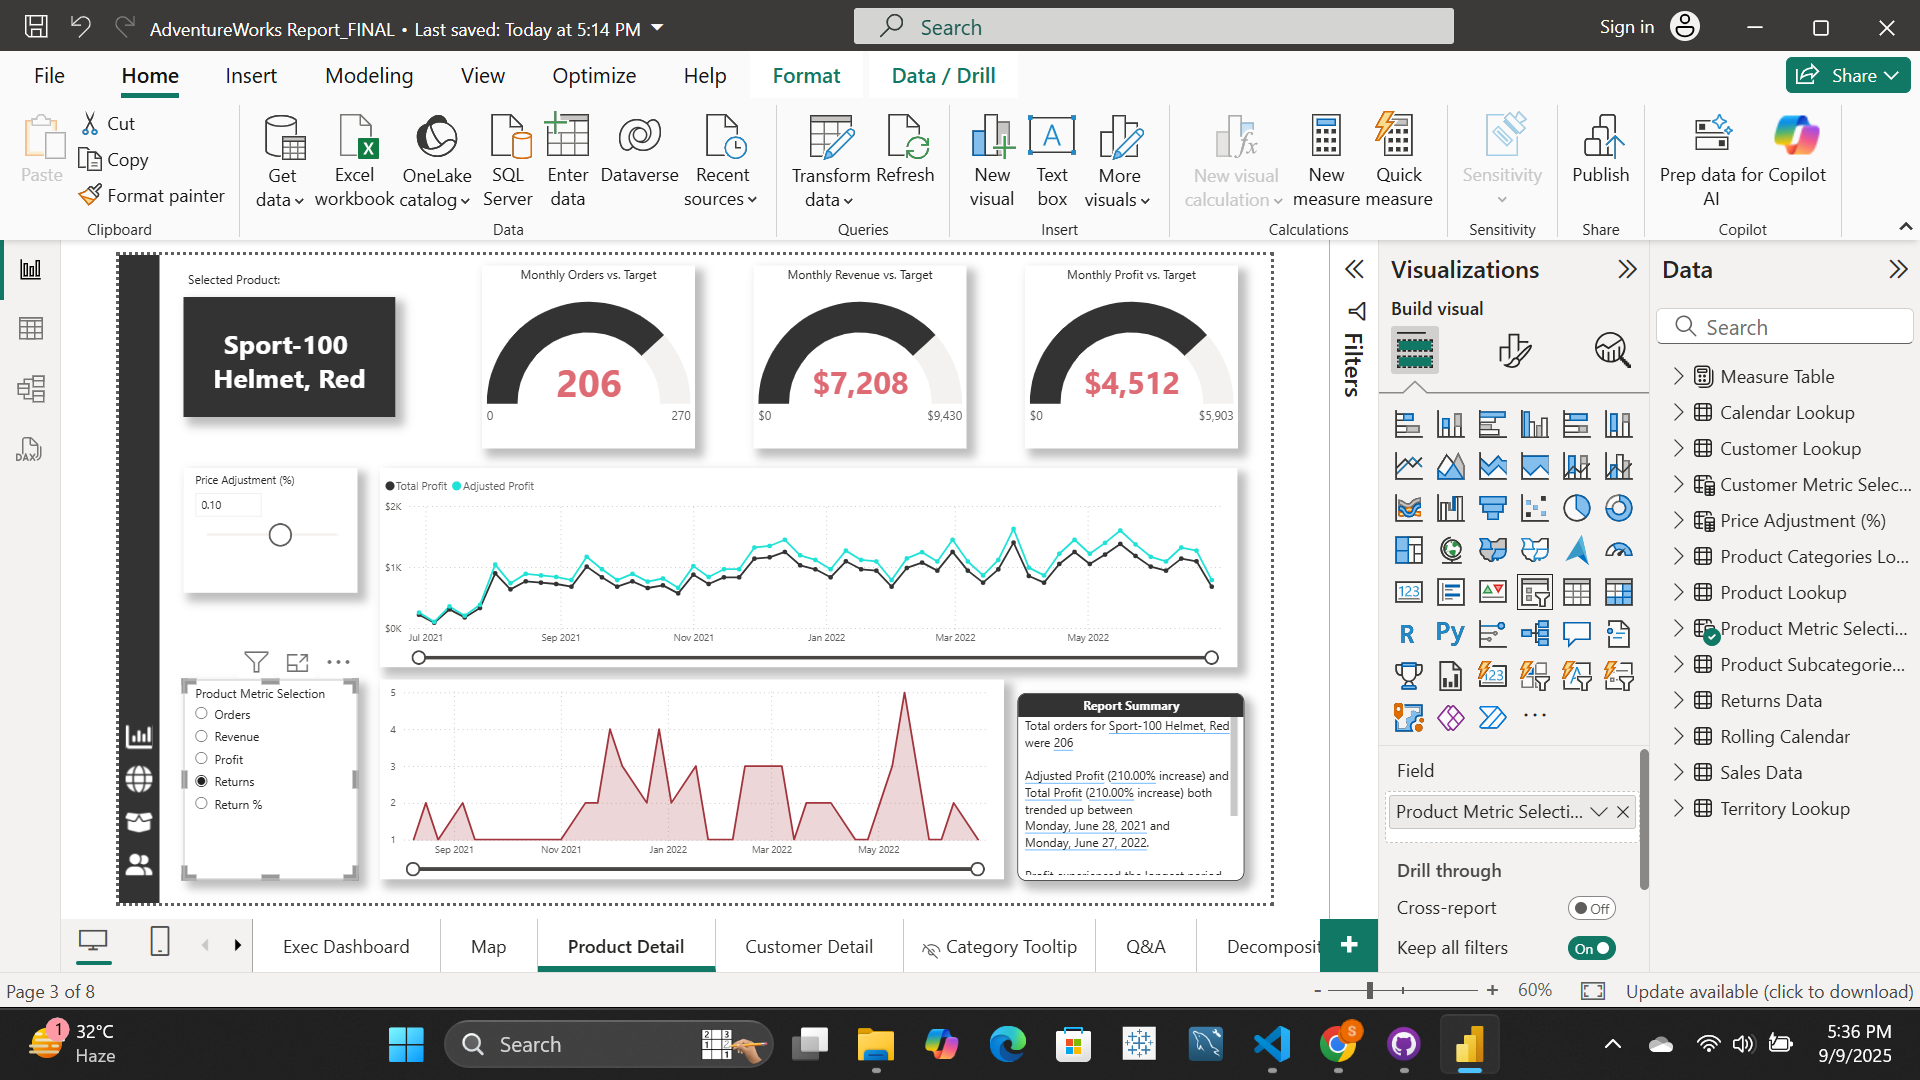

This screenshot's page, from the dashboard's own definition file:
{"tool":"powerbi","page":{"name":"Product Detail","canvas":[1280,720],"ordinal":2},"visuals":[{"type":"shape","box":[0,0,45,720],"z":0},{"type":"actionButton","box":[2.5,516.7,45.6,37.8],"z":0,"group":"g1"},{"type":"gauge","title":"Monthly Orders vs. Target","fields":{"Y":["Measure Table.Total Orders"],"MaxValue":["Measure Table.Order Target"]},"box":[383.7,41.5,236.9,203.7],"z":1000},{"type":"actionButton","box":[3.3,563.4,45.6,37.8],"z":1000,"group":"g1"},{"type":"gauge","title":"Monthly Revenue vs. Target","fields":{"Y":["Measure Table.Total Revenue"],"MaxValue":["Measure Table.Revenue Target"]},"box":[683.5,41.5,236.9,203.7],"z":2000},{"type":"actionButton","box":[3.3,611.1,45.6,37.8],"z":2000,"group":"g1"},{"type":"gauge","title":"Monthly Profit vs. Target","fields":{"Y":["Measure Table.Total Profit"],"MaxValue":["Measure Table.Profit Target"]},"box":[983.4,41.8,236.2,203.5],"z":3000},{"type":"actionButton","box":[3.3,657.8,45.6,37.8],"z":3000,"group":"g1"},{"type":"lineChart","title":"Profit Trending","fields":{"Category":["Calendar Lookup.Date Hierarchy.Year","Calendar Lookup.Date Hierarchy.Start of Month","Calendar Lookup.Date Hierarchy.Start of Week","Calendar Lookup.Date Hierarchy.Date"],"Y":["Measure Table.Total Profit","Measure Table.Adjusted Profit"]},"box":[290.5,237.4,952.8,221.5],"z":4000},{"type":"areaChart","title":"Return Trending","fields":{"Y":["Measure Table.Total Profit"],"Category":["Calendar Lookup.Date Hierarchy.Year","Calendar Lookup.Date Hierarchy.Start of Month","Calendar Lookup.Date Hierarchy.Start of Week","Calendar Lookup.Date Hierarchy.Date"]},"box":[290.5,471.3,708.7,221.5],"z":5000},{"type":"card","fields":{"Values":["Min(Product Lookup.ProductName)"]},"box":[83.6,61,235.1,134.5],"z":6000},{"type":"textbox","box":[83.6,32.8,136.8,36.2],"z":7000},{"type":"group","id":"g1","title":"Navigation Buttons","box":[2.5,516.7,46.4,178.9],"z":8000},{"type":"slicer","fields":{"Values":["Price Adjustment (%).Price Adjustment (%)"]},"box":[83.6,245.3,193.3,123.2],"z":9000},{"type":"slicer","fields":{"Values":["Product Metric Selection.Product Metric Selection"]},"box":[83.6,477,193.3,180.8],"z":10000},{"type":"textbox","title":"Report Summary","box":[999.2,478.1,253.2,208],"z":11000}]}

Visuals, with their boxes on the page's 1280x720 design canvas (x1, y1, x2, y2). These are canvas units, not pixel positions in the 1920x1080 screenshot, which may show the page scaled, cropped or inside an application window:
shape: pyautogui.locateOnScreen(0, 0, 45, 720)
actionButton: pyautogui.locateOnScreen(2, 517, 48, 554)
"Monthly Orders vs. Target" gauge: pyautogui.locateOnScreen(384, 42, 621, 245)
actionButton: pyautogui.locateOnScreen(3, 563, 49, 601)
"Monthly Revenue vs. Target" gauge: pyautogui.locateOnScreen(684, 42, 920, 245)
actionButton: pyautogui.locateOnScreen(3, 611, 49, 649)
"Monthly Profit vs. Target" gauge: pyautogui.locateOnScreen(983, 42, 1220, 245)
actionButton: pyautogui.locateOnScreen(3, 658, 49, 696)
"Profit Trending" lineChart: pyautogui.locateOnScreen(290, 237, 1243, 459)
"Return Trending" areaChart: pyautogui.locateOnScreen(290, 471, 999, 693)
card - Min(Product Lookup.ProductName): pyautogui.locateOnScreen(84, 61, 319, 196)
textbox: pyautogui.locateOnScreen(84, 33, 220, 69)
"Navigation Buttons" group: pyautogui.locateOnScreen(2, 517, 49, 696)
slicer - Price Adjustment (%).Price Adjustment (%): pyautogui.locateOnScreen(84, 245, 277, 368)
slicer - Product Metric Selection.Product Metric Selection: pyautogui.locateOnScreen(84, 477, 277, 658)
"Report Summary" textbox: pyautogui.locateOnScreen(999, 478, 1252, 686)
